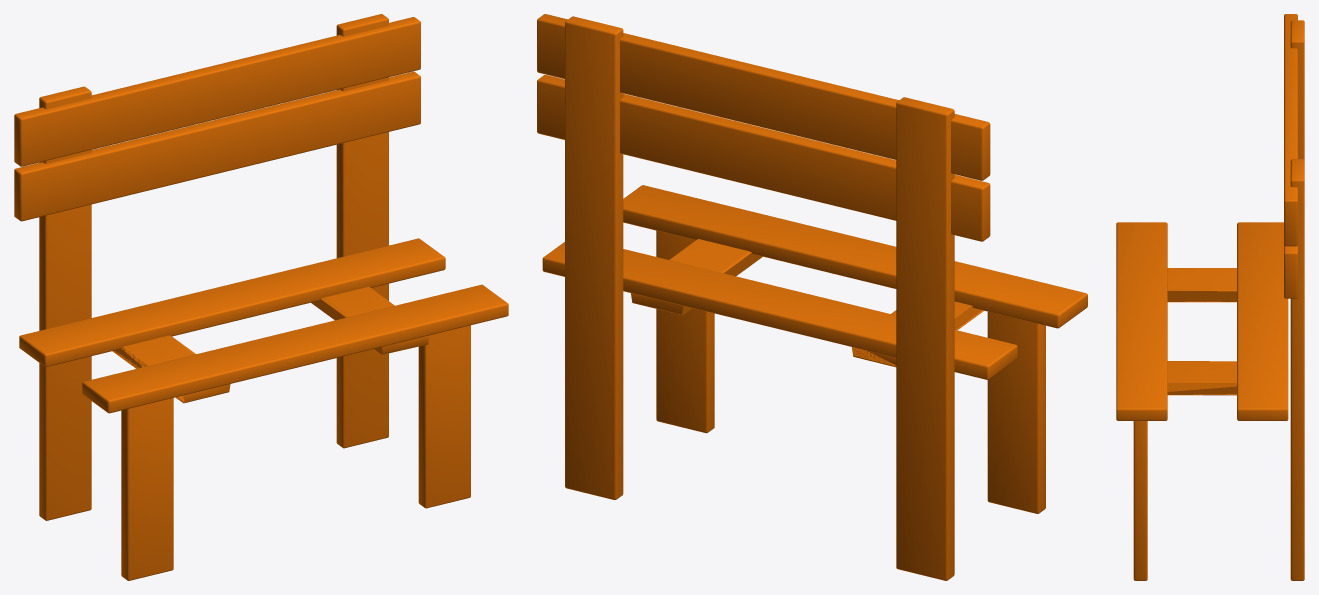
Rendered from Broken bench 2_Cvl_26-09.fbx.
The picture shows the model from 3 angles, left to right: view 1: azimuth 30°, elevation 25°; view 2: azimuth 150°, elevation 25°; view 3: azimuth 270°, elevation 25°; orthographic projection. The views are drawn at different scales.
Visible parts, largest first — view 1: Cube.028; view 2: Cube.028; view 3: Cube.028.
Part boxes in pixels (x1,y1,x2,y2): Cube.028: (14,14,508,580); Cube.028: (537,14,1087,580); Cube.028: (1116,14,1304,580).
Bounding box in the file's own units: 230 × 230 × 97.95.
